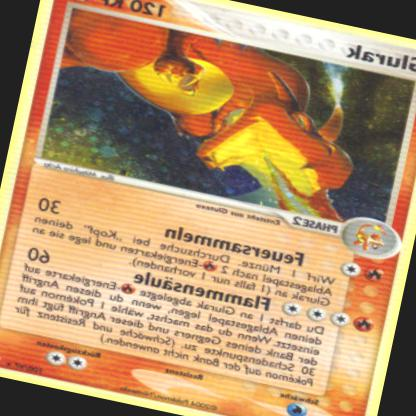Charizard: (45, 11, 376, 221)
